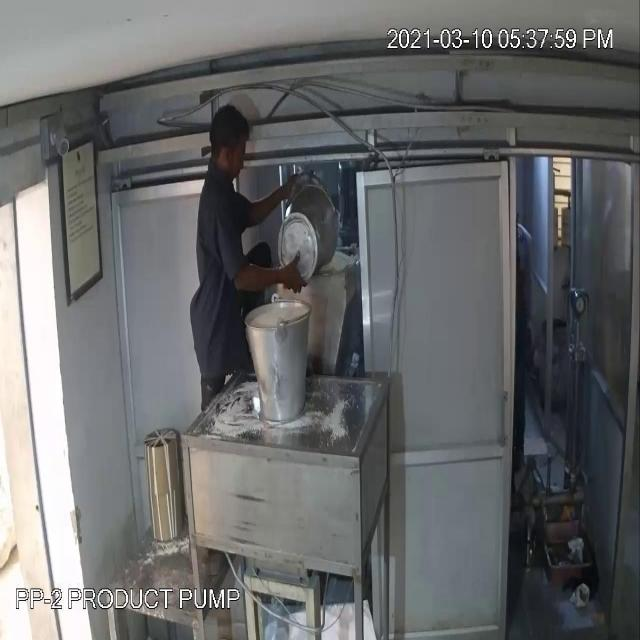No_Gloves: (222, 236, 312, 310)
